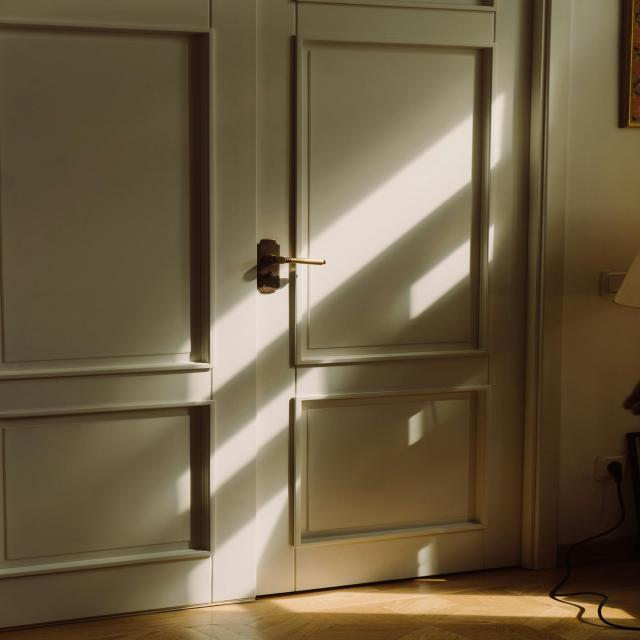door-handle: (268, 255, 326, 265)
